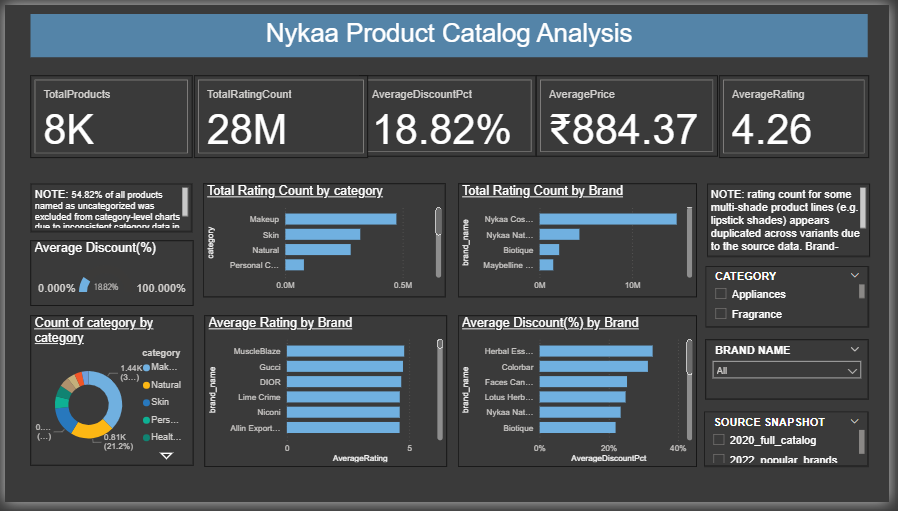

The page's visual inventory and layout, read from the dashboard file:
{"tool":"powerbi","page":{"name":"Page 1","canvas":[1280,720],"ordinal":0},"visuals":[{"type":"cardVisual","fields":{"Data":["nykaa_products products.TotalProducts"]},"box":[37,102.2,234.8,119.6],"z":0},{"type":"cardVisual","fields":{"Data":["nykaa_products products.AverageDiscountPct"]},"box":[513,102.2,256.5,117.4],"z":1},{"type":"cardVisual","fields":{"Data":["nykaa_products products.TotalRatingCount"]},"box":[273.9,102.2,252.2,119.6],"z":2},{"type":"cardVisual","fields":{"Data":["nykaa_products products.AveragePrice"]},"box":[769.6,102.2,263,117.4],"z":3},{"type":"cardVisual","fields":{"Data":["nykaa_products products.AverageRating"]},"box":[1034.8,102.2,217.4,119.6],"z":4},{"type":"clusteredBarChart","title":"Total Rating Count by Brand ","fields":{"Category":["nykaa_products products.brand_name"],"Y":["nykaa_products products.TotalRatingCount"]},"box":[655.8,258.9,345.8,164.4],"z":5},{"type":"clusteredBarChart","title":"Total Rating Count by category","fields":{"Category":["nykaa_products products.category"],"Y":["nykaa_products products.TotalRatingCount"]},"box":[287.2,258.9,351.5,164.4],"z":6},{"type":"donutChart","fields":{"Category":["nykaa_products products.category"],"Y":["CountNonNull(nykaa_products products.category)"]},"box":[35.9,449.8,236.2,217.3],"z":7},{"type":"textbox","box":[1016.7,258.9,236.2,105.8],"z":8},{"type":"textbox","box":[37.8,258.9,234.3,69.9],"z":9},{"type":"clusteredBarChart","title":"Average Discount(%) by Brand ","fields":{"Y":["nykaa_products products.AverageDiscountPct"],"Category":["nykaa_products products.brand_name"]},"box":[655.8,449.8,345.8,219.2],"z":10},{"type":"clusteredBarChart","title":"Average Rating by Brand","fields":{"Y":["nykaa_products products.AverageRating"],"Category":["nykaa_products products.brand_name"]},"box":[289.1,449.8,351.5,219.2],"z":11},{"type":"textbox","box":[37.8,13.2,1213.2,62.4],"z":12},{"type":"slicer","fields":{"Values":["nykaa_products products.category"]},"box":[1014.8,378,236.2,88.8],"z":13},{"type":"slicer","fields":{"Values":["nykaa_products products.brand_name"]},"box":[1014.8,483.8,236.2,86.9],"z":14},{"type":"slicer","fields":{"Values":["nykaa_products products.source_snapshot"]},"box":[1012.9,589.6,238.1,79.4],"z":15},{"type":"gauge","title":"Average Discount(%)","fields":{"Y":["nykaa_products products.AverageDiscountPct"]},"box":[35.9,342,236.2,94.5],"z":16}]}

Visuals, with their boxes in screenshot pixels (x1, y1, x2, y2), scaled from the page's 1280x720 canvas onto the 898x511 screenshot:
cardVisual - nykaa_products products.TotalProducts: {"x1": 26, "y1": 73, "x2": 191, "y2": 157}
cardVisual - nykaa_products products.AverageDiscountPct: {"x1": 360, "y1": 73, "x2": 540, "y2": 156}
cardVisual - nykaa_products products.TotalRatingCount: {"x1": 192, "y1": 73, "x2": 369, "y2": 157}
cardVisual - nykaa_products products.AveragePrice: {"x1": 540, "y1": 73, "x2": 724, "y2": 156}
cardVisual - nykaa_products products.AverageRating: {"x1": 726, "y1": 73, "x2": 878, "y2": 157}
"Total Rating Count by Brand " clusteredBarChart: {"x1": 460, "y1": 184, "x2": 703, "y2": 300}
"Total Rating Count by category" clusteredBarChart: {"x1": 201, "y1": 184, "x2": 448, "y2": 300}
donutChart - nykaa_products products.category x CountNonNull(nykaa_products products.category): {"x1": 25, "y1": 319, "x2": 191, "y2": 473}
textbox: {"x1": 713, "y1": 184, "x2": 879, "y2": 259}
textbox: {"x1": 27, "y1": 184, "x2": 191, "y2": 233}
"Average Discount(%) by Brand " clusteredBarChart: {"x1": 460, "y1": 319, "x2": 703, "y2": 475}
"Average Rating by Brand" clusteredBarChart: {"x1": 203, "y1": 319, "x2": 449, "y2": 475}
textbox: {"x1": 27, "y1": 9, "x2": 878, "y2": 54}
slicer - nykaa_products products.category: {"x1": 712, "y1": 268, "x2": 878, "y2": 331}
slicer - nykaa_products products.brand_name: {"x1": 712, "y1": 343, "x2": 878, "y2": 405}
slicer - nykaa_products products.source_snapshot: {"x1": 711, "y1": 418, "x2": 878, "y2": 475}
"Average Discount(%)" gauge: {"x1": 25, "y1": 243, "x2": 191, "y2": 310}
